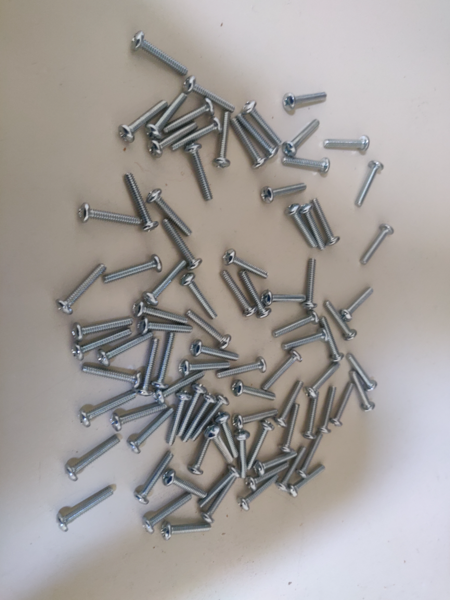longscrew: (137, 446, 185, 504), (66, 432, 120, 482), (132, 30, 188, 76), (57, 485, 113, 531), (58, 258, 102, 315), (147, 191, 194, 237), (191, 395, 236, 443), (146, 88, 188, 139), (80, 386, 136, 424), (96, 330, 155, 366), (129, 404, 175, 450), (71, 324, 133, 358), (144, 494, 199, 531), (145, 256, 186, 305), (121, 100, 167, 143), (185, 76, 237, 114), (164, 221, 205, 269), (202, 477, 243, 525), (126, 173, 159, 232), (176, 384, 210, 441), (181, 276, 225, 320), (114, 396, 167, 431), (182, 390, 217, 443), (197, 467, 240, 510), (262, 346, 301, 393), (71, 312, 132, 342), (102, 253, 161, 284), (245, 420, 280, 471), (173, 117, 221, 154), (167, 98, 215, 135), (152, 122, 200, 159), (189, 425, 225, 474), (243, 100, 283, 144), (237, 114, 277, 158), (156, 368, 206, 403), (231, 122, 271, 165), (167, 390, 196, 449), (160, 473, 218, 502), (189, 308, 231, 348), (239, 476, 283, 514), (220, 271, 256, 317), (154, 330, 181, 390), (78, 203, 146, 226), (136, 338, 162, 398), (221, 248, 269, 279), (277, 445, 308, 493), (272, 309, 322, 338), (78, 363, 141, 386), (360, 226, 396, 266), (286, 205, 318, 249), (188, 145, 213, 201), (276, 379, 304, 429), (300, 392, 328, 442), (242, 273, 273, 318), (247, 462, 292, 492), (290, 462, 326, 499), (318, 385, 345, 434), (358, 161, 384, 210), (216, 355, 265, 381), (300, 429, 324, 482), (309, 361, 346, 395), (347, 353, 380, 391), (349, 373, 382, 411), (279, 404, 303, 456), (133, 304, 189, 326), (285, 117, 318, 154), (207, 426, 239, 464), (215, 412, 239, 462), (325, 304, 358, 340), (159, 519, 213, 541), (331, 381, 357, 426), (314, 200, 341, 243), (302, 205, 327, 250), (177, 356, 233, 376), (322, 314, 344, 362), (256, 448, 296, 474), (233, 404, 280, 426), (344, 284, 373, 319), (283, 328, 327, 351), (192, 341, 242, 361), (263, 181, 309, 202), (217, 113, 234, 168), (232, 383, 282, 401), (237, 429, 253, 484), (139, 320, 193, 336), (283, 90, 328, 109), (259, 289, 309, 306), (304, 259, 320, 308), (324, 137, 371, 151), (283, 157, 330, 171)
